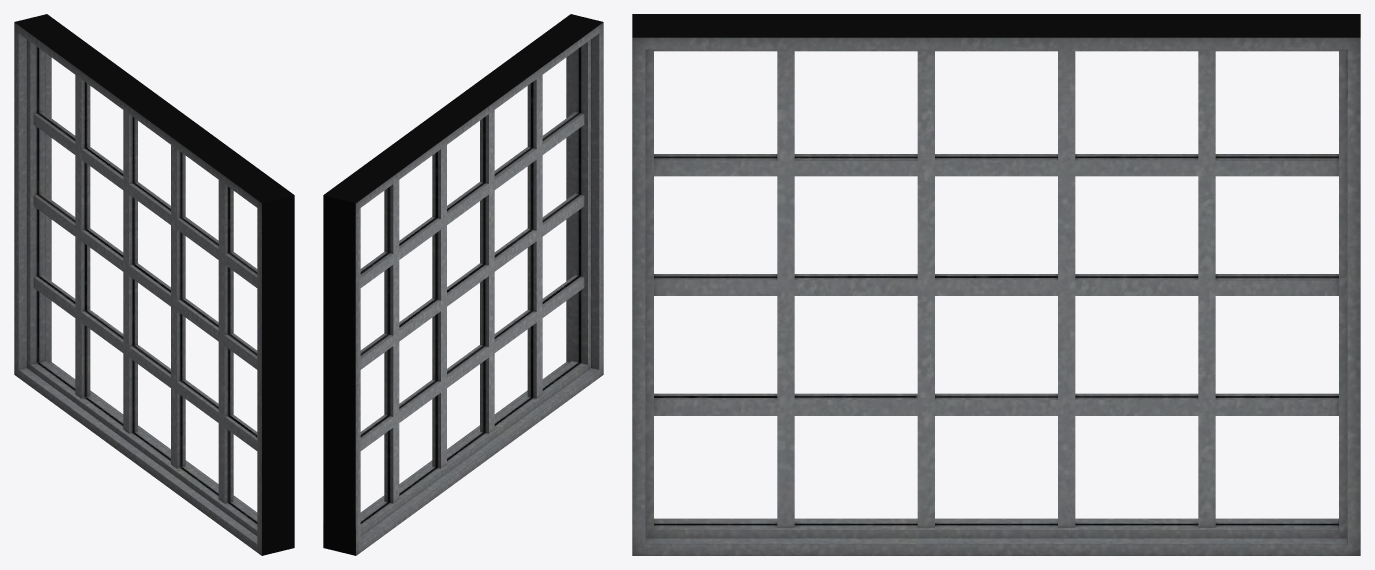
The model's file is Industrial01_Frame.FBX.
3 views of the same model, side by side, from view 1: azimuth 30°, elevation 25°; view 2: azimuth 150°, elevation 25°; view 3: azimuth 270°, elevation 25° (orthographic). The views are drawn at different scales.
Parts seen in each view (by area): view 1: WindowFrame; view 2: WindowFrame; view 3: WindowFrame.
Boxes of the visible parts, bbox=[...] form: WindowFrame: bbox=[14, 14, 294, 555]; WindowFrame: bbox=[323, 14, 603, 555]; WindowFrame: bbox=[632, 14, 1360, 555].
Size of the model in its own units: 0.1288 by 1.32 by 1.68.
